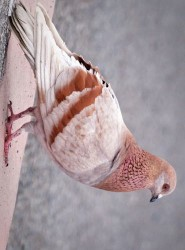pigeon: (4, 1, 178, 203)
